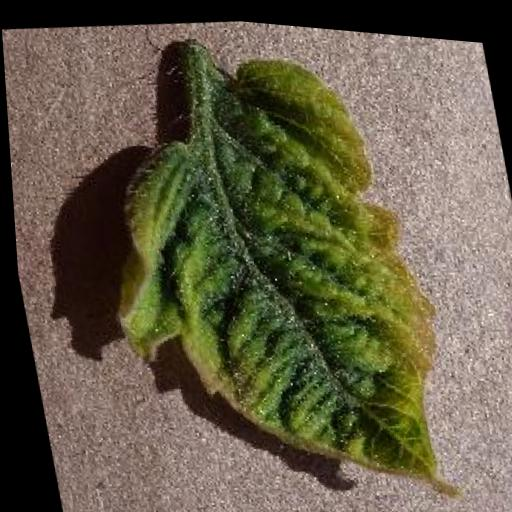Yellow Leaf Curl Virus: (68, 26, 463, 512)
